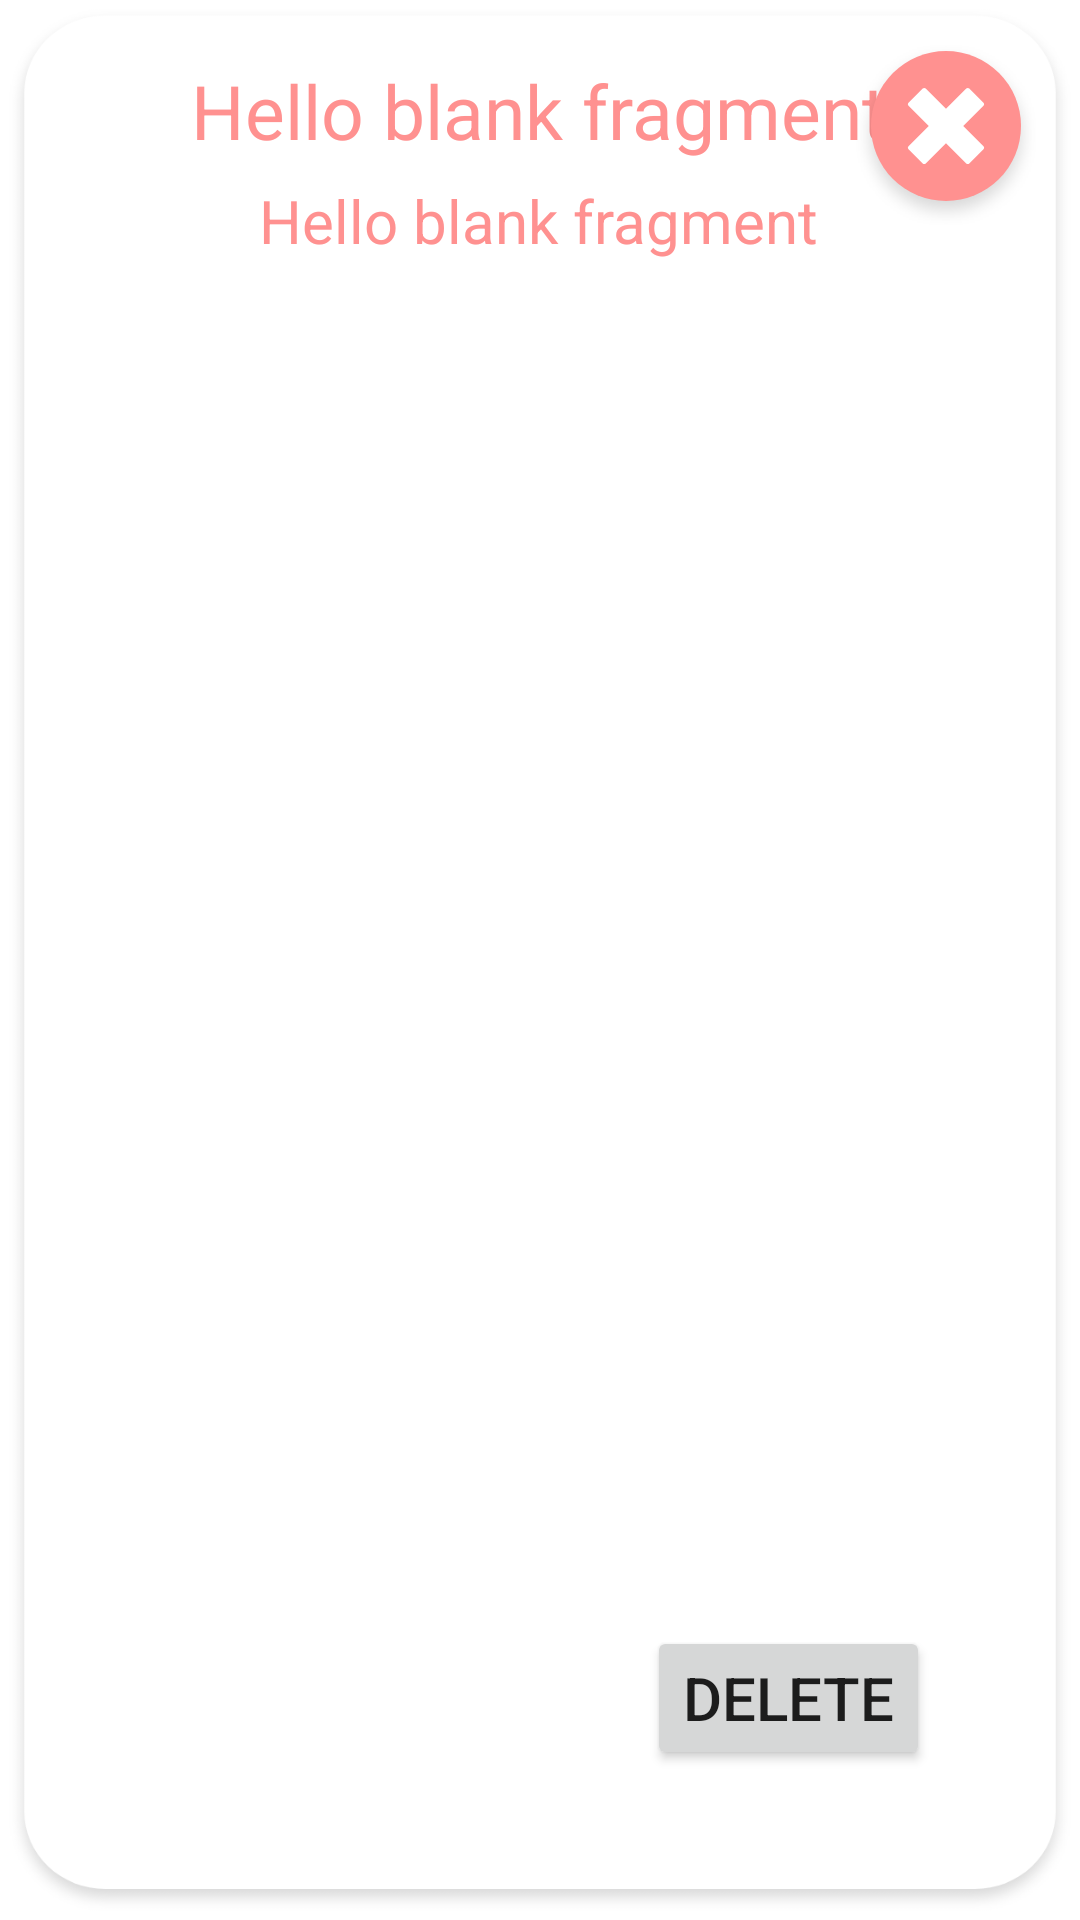

Screen size 1080×1920. Icon name, then its box in pixels as (x1, y1, x2, y2):
exit: (862, 51, 1021, 207)
